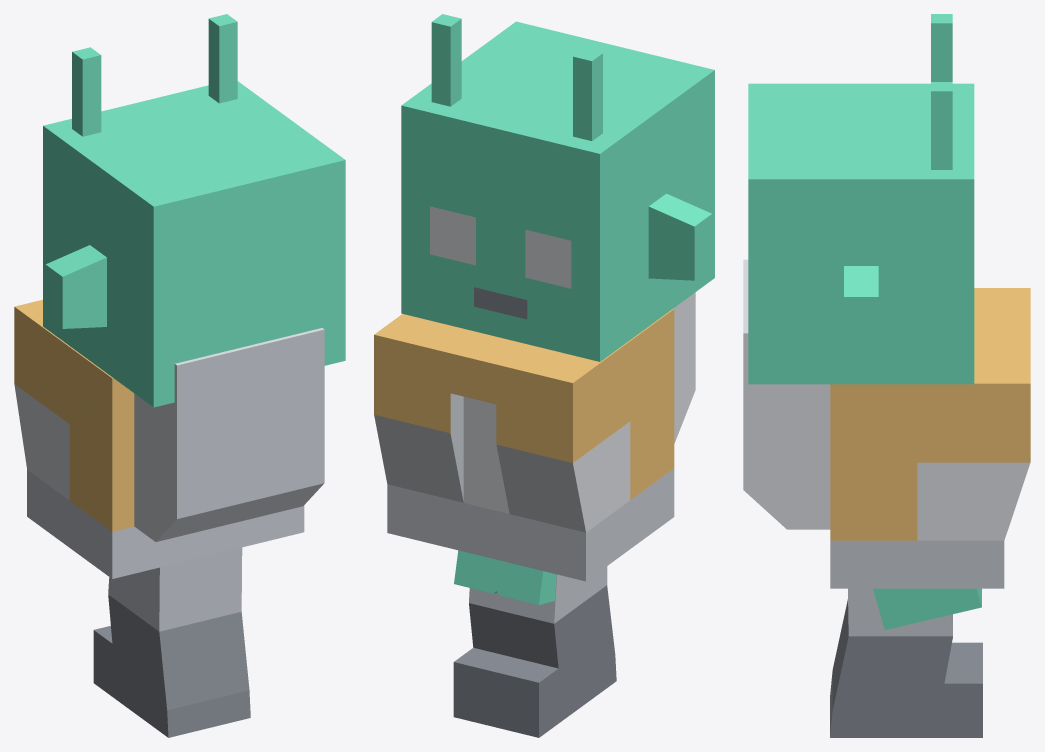
The model's file is alien.glb.
The picture shows the model from 3 angles, left to right: view 1: azimuth 30°, elevation 25°; view 2: azimuth 150°, elevation 25°; view 3: azimuth 270°, elevation 25°; orthographic projection. The views are drawn at different scales.
Visible parts, largest first — view 1: alien.005, alien.004, alien.007, alien.006; view 2: alien.005, alien.004, alien.007, alien.003, alien.006, alien.002; view 3: alien.005, alien.004, alien.007, alien.002, alien.006.
Part boxes in pixels (x1,y1,x2,y2): alien.005: [43, 14, 345, 407]; alien.004: [14, 299, 324, 578]; alien.007: [93, 547, 249, 737]; alien.006: [94, 625, 250, 737]; alien.005: [401, 14, 714, 361]; alien.004: [374, 292, 695, 581]; alien.007: [453, 566, 616, 737]; alien.003: [473, 554, 556, 604]; alien.006: [453, 637, 615, 722]; alien.002: [454, 550, 497, 593]; alien.005: [748, 14, 974, 384]; alien.004: [743, 259, 1030, 588]; alien.007: [830, 588, 982, 737]; alien.002: [873, 588, 981, 629]; alien.006: [830, 642, 982, 737].
Size of the model in its own units: 1.14 by 2.53 by 0.99.
